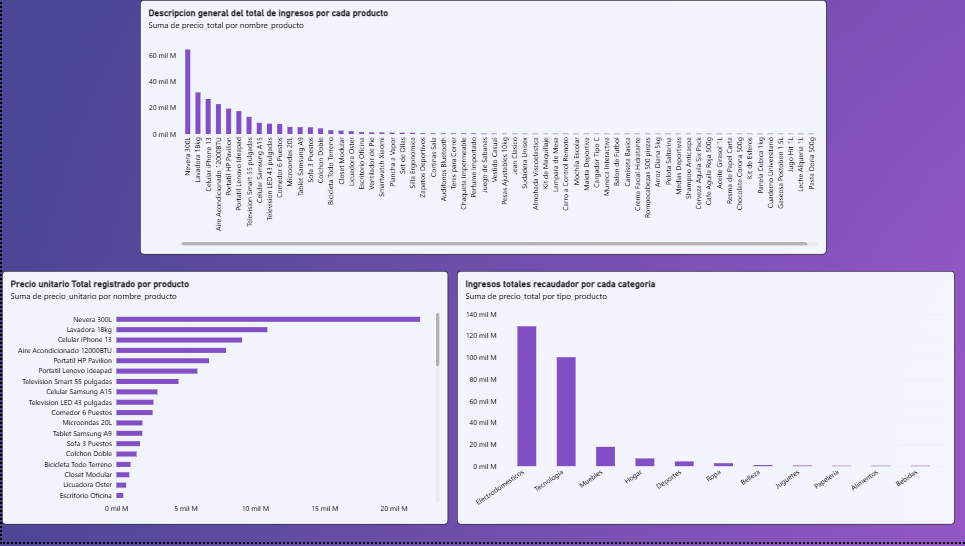

The page's visual inventory and layout, read from the dashboard file:
{"tool":"powerbi","page":{"name":"Descripcion detallada de los ingresos","canvas":[1920,1080],"ordinal":1},"visuals":[{"type":"clusteredColumnChart","title":"Descripcion general del total de ingresos por cada producto","fields":{"Category":["public ventas_colombia.nombre_producto"],"Y":["Sum(public ventas_colombia.precio_total)"]},"box":[274.4,0,1367.6,507.1],"z":0},{"type":"clusteredBarChart","title":"Precio unitario Total registrado por producto","fields":{"Category":["public ventas_colombia.nombre_producto"],"Y":["Sum(public ventas_colombia.precio_unitario)"]},"box":[0,540,889,504.9],"z":1000},{"type":"clusteredColumnChart","title":"Ingresos totales recaudador por cada categoria","fields":{"Category":["public ventas_colombia.tipo_producto"],"Y":["Sum(public ventas_colombia.precio_total)"]},"box":[906.6,540,992.2,504.9],"z":2000}]}

Visuals, with their boxes in screenshot pixels (x1, y1, x2, y2), scaled from the page's 1920x1080 canvas onto the 965x546 screenshot:
"Descripcion general del total de ingresos por cada producto" clusteredColumnChart: Rect(138, 0, 825, 256)
"Precio unitario Total registrado por producto" clusteredBarChart: Rect(0, 273, 447, 528)
"Ingresos totales recaudador por cada categoria" clusteredColumnChart: Rect(456, 273, 954, 528)
